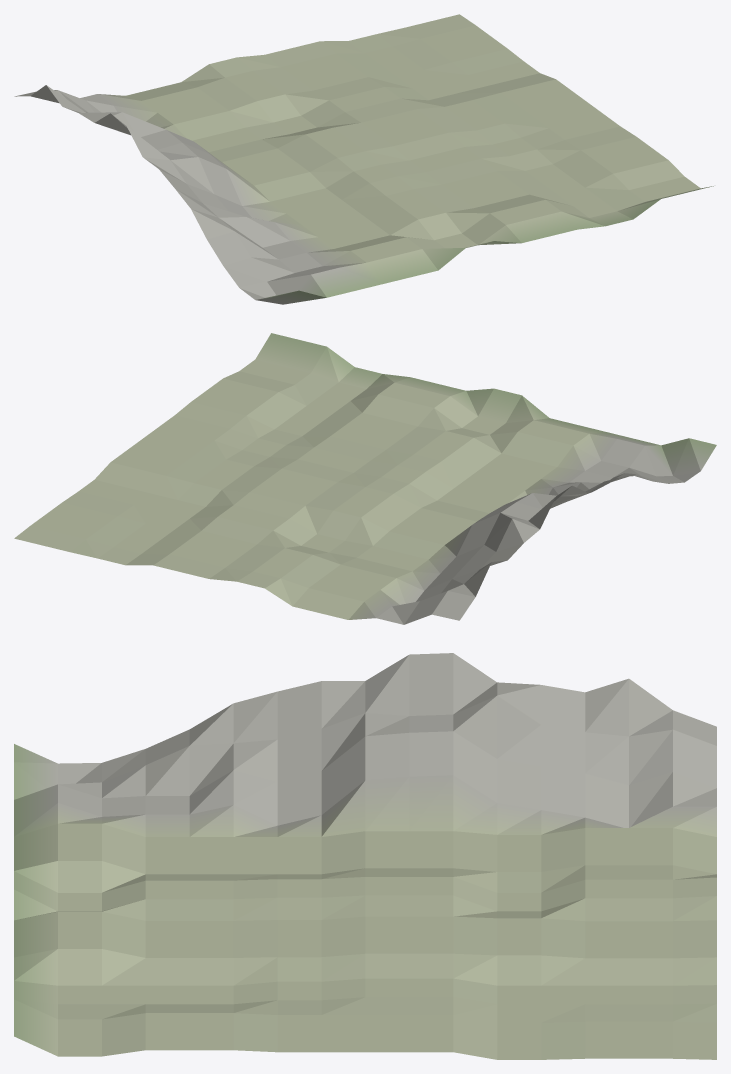
3 views of the same model, one above another, from view 1: azimuth 30°, elevation 25°; view 2: azimuth 150°, elevation 25°; view 3: azimuth 270°, elevation 25° (orthographic). The views are drawn at different scales.
Bounding box in the file's own units: 32 × 6.33 × 32.
